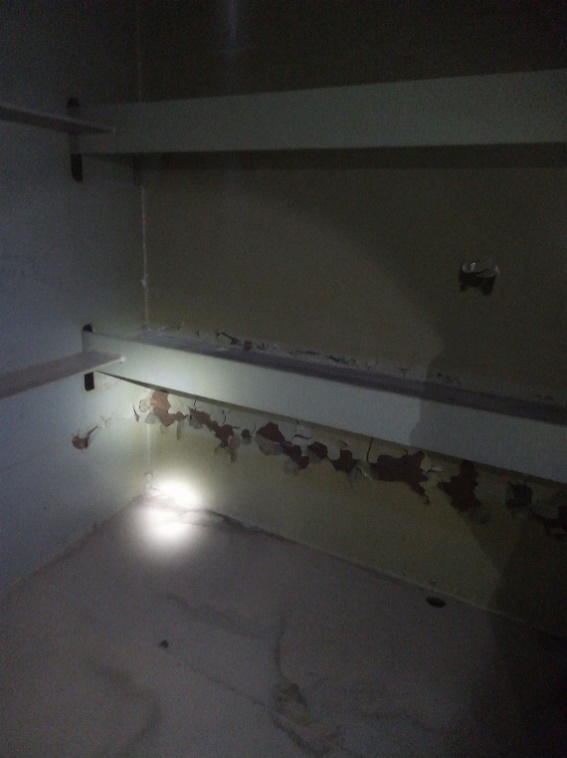corrosion: (129, 381, 242, 462), (252, 422, 363, 479), (357, 444, 446, 503), (447, 473, 538, 530), (453, 266, 503, 301), (67, 422, 110, 461)
